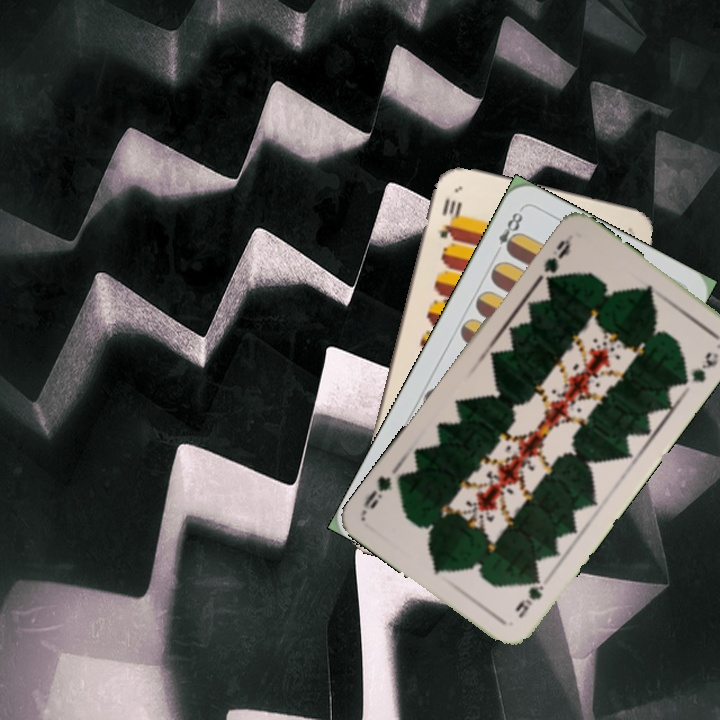E10: (435, 194, 458, 241)
E8: (490, 205, 526, 259)
G9: (533, 231, 575, 286), (511, 570, 547, 621)
